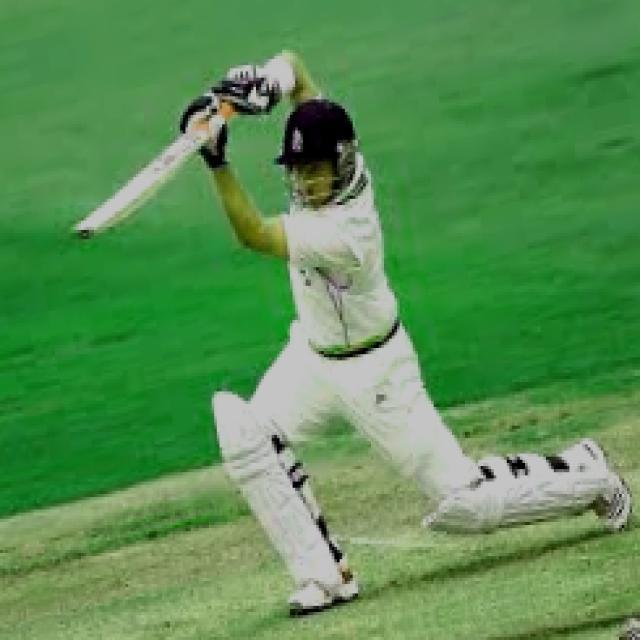bat: (65, 108, 227, 249)
toe: (70, 225, 96, 240)
